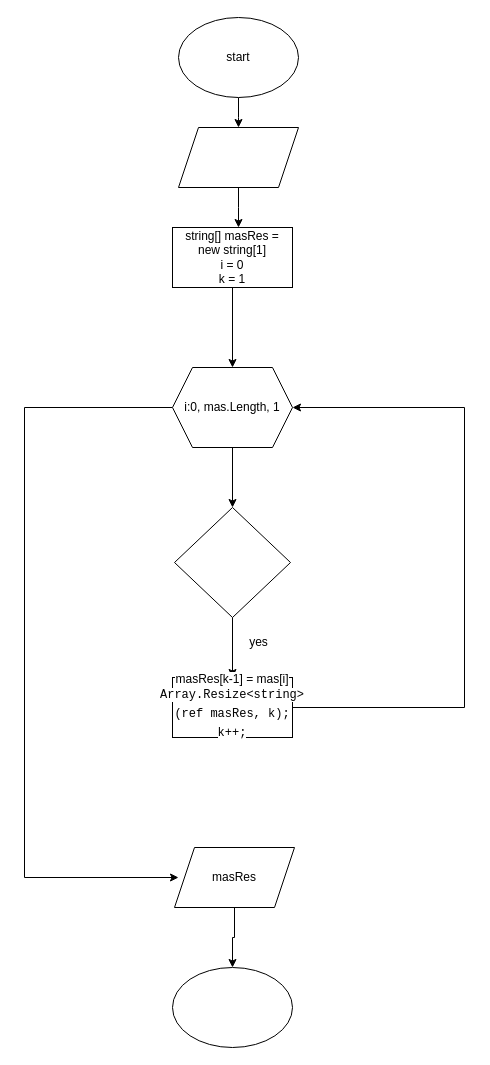
Image size: 490x1065. Some labels were removed from this diagram. The centre of each missing label's shape, as x and y in pixels:
"end" belongs at (232,1007).
"if (mas[i].Length <= 3)" belongs at (232,562).
"mas" belongs at (238,157).
